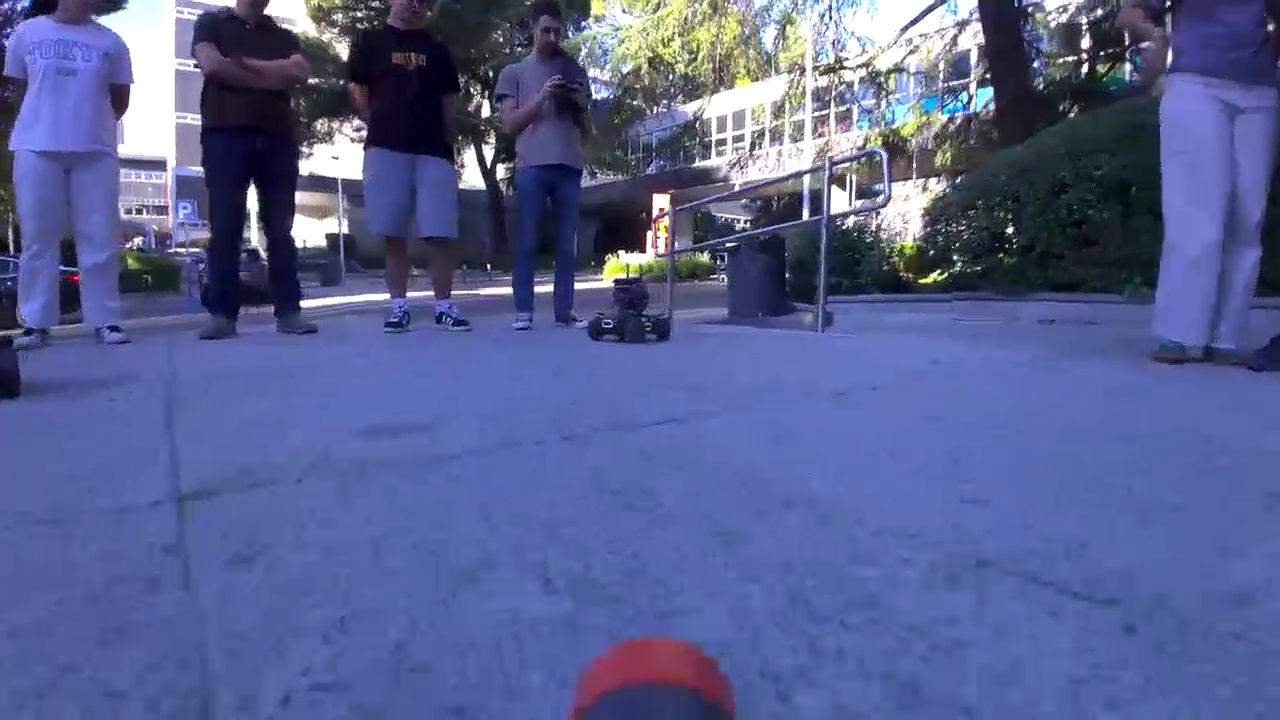robot: (587, 277, 673, 345)
